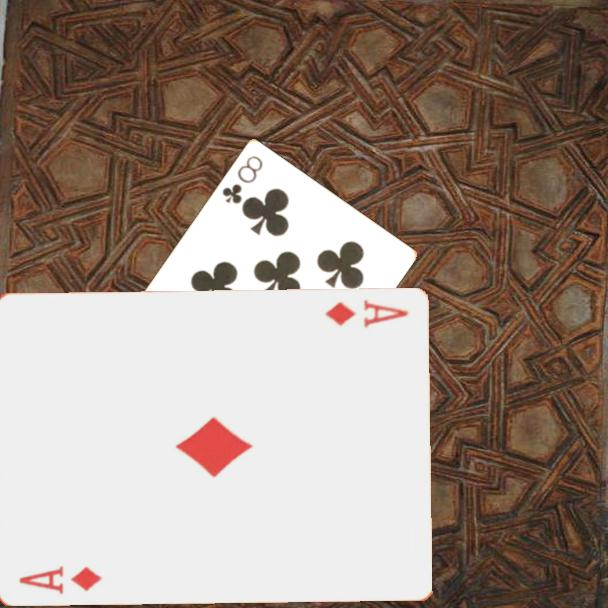c08: (218, 151, 266, 207)
d01: (321, 297, 411, 332), (15, 563, 105, 597)
